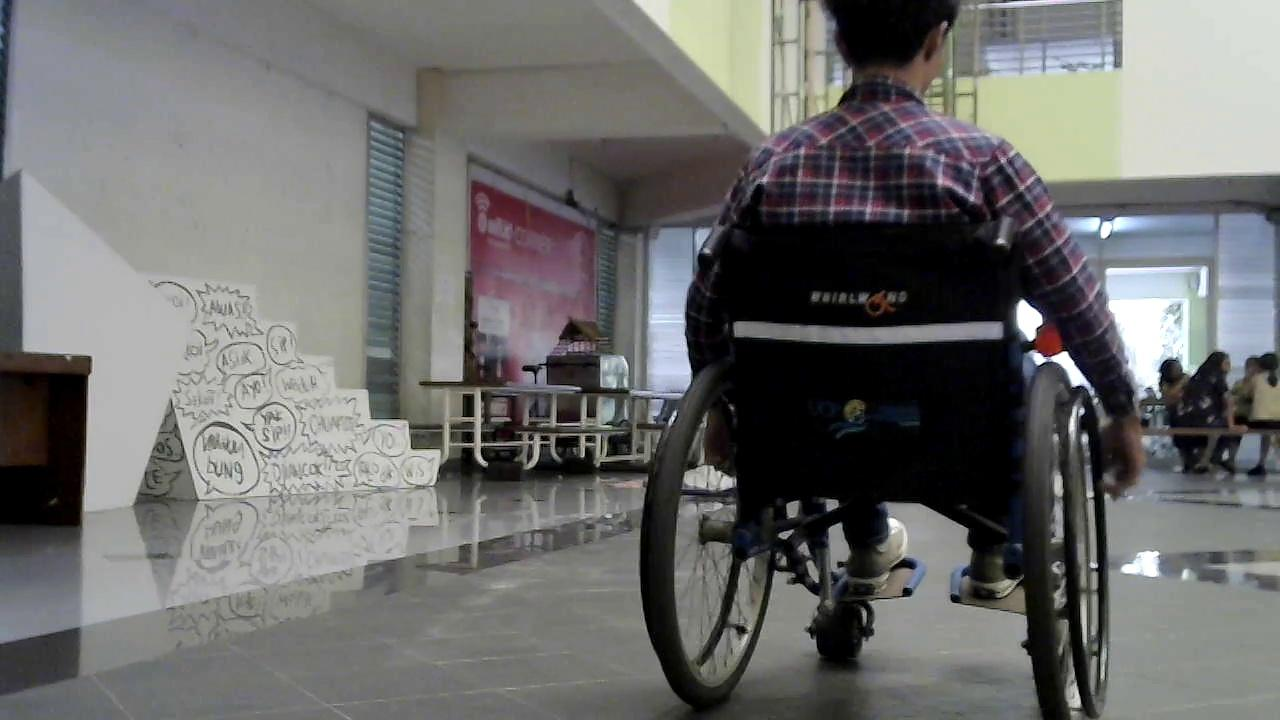person: (674, 3, 1148, 631), (1174, 350, 1234, 477), (1230, 353, 1280, 478)
wheelchair: (597, 187, 1145, 720)
